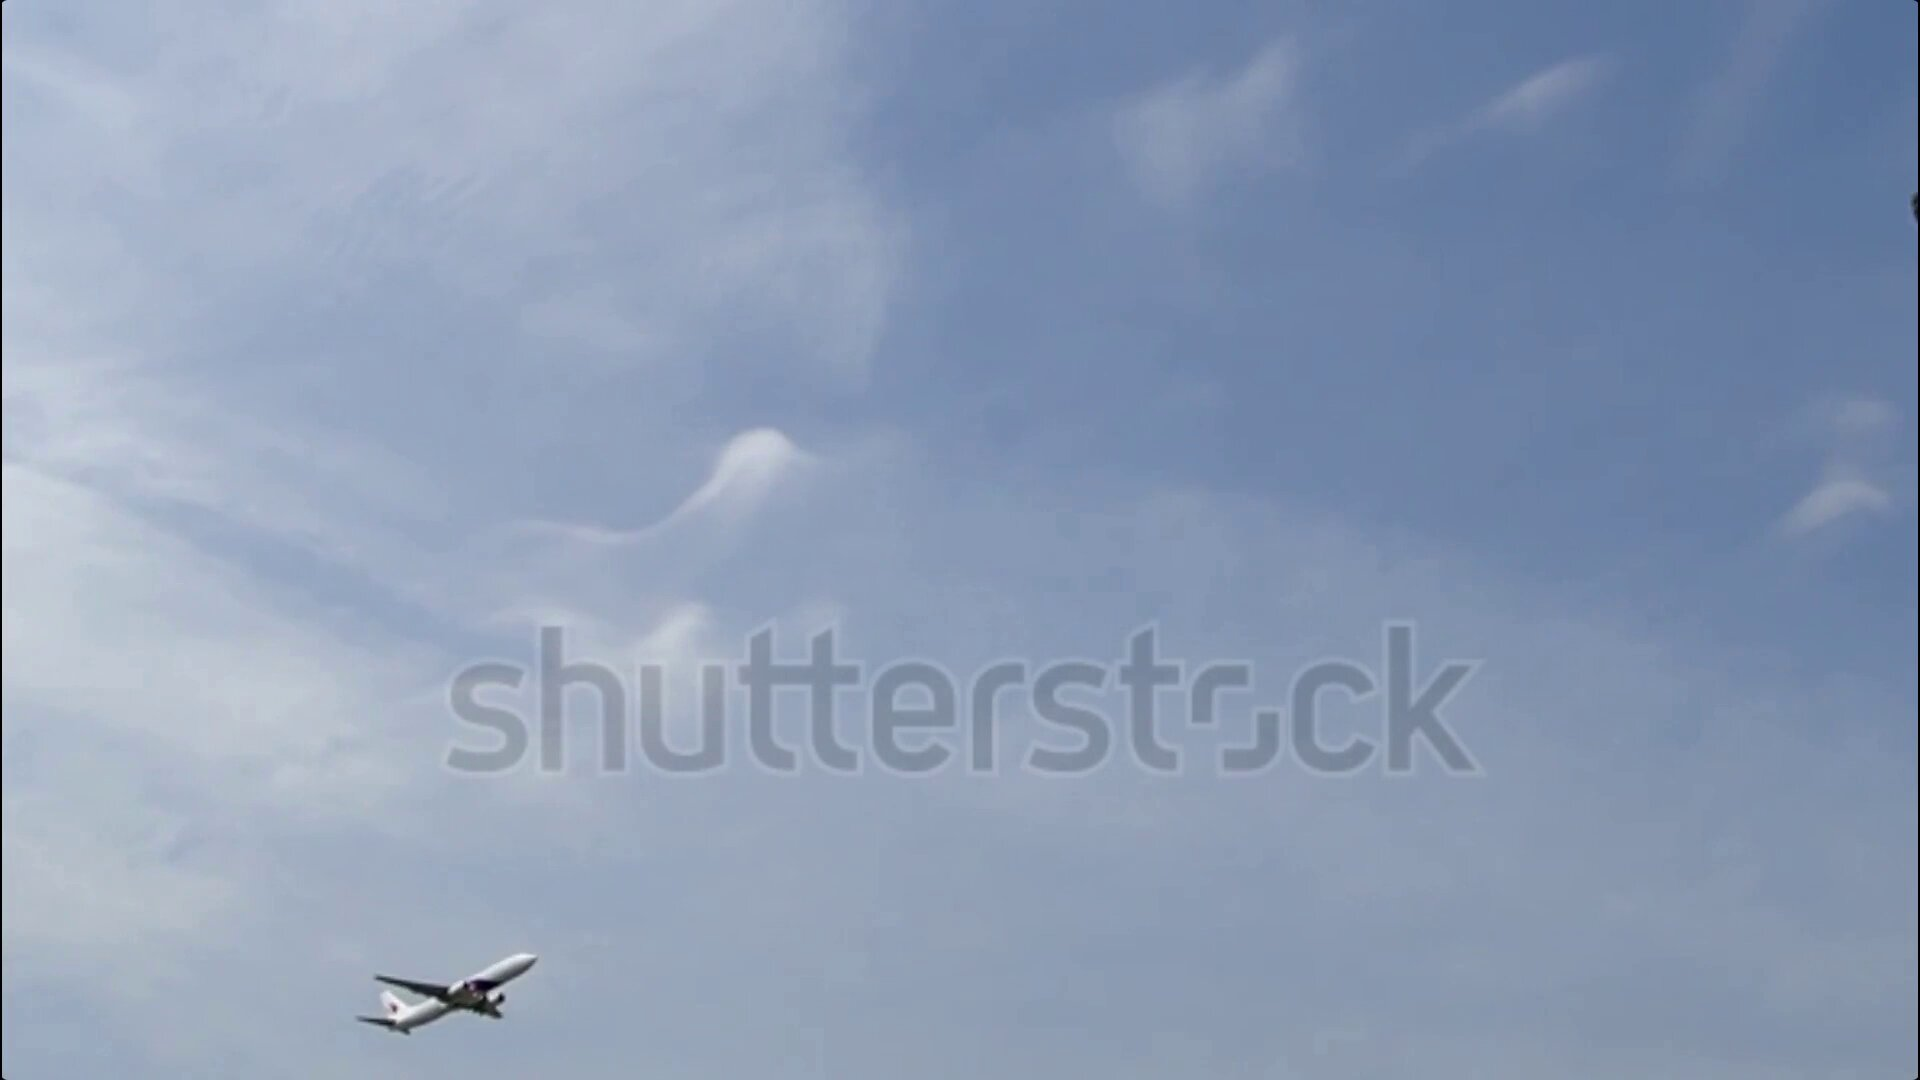airplane: (351, 949, 541, 1040)
